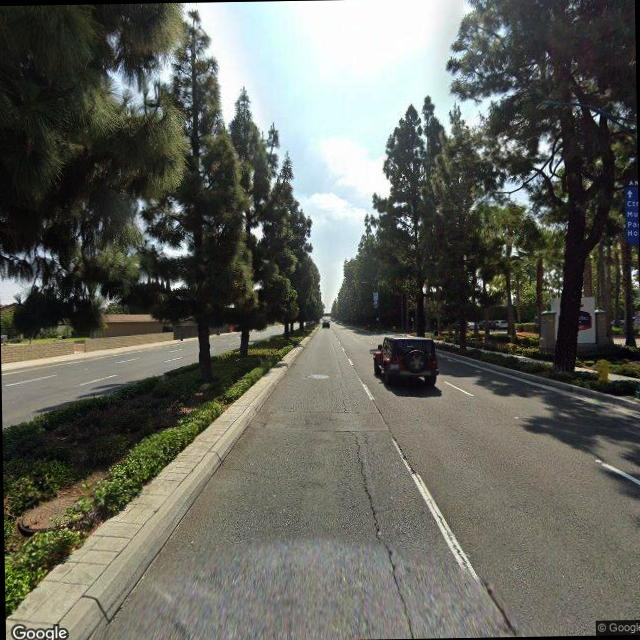crack: (346, 428, 409, 636)
